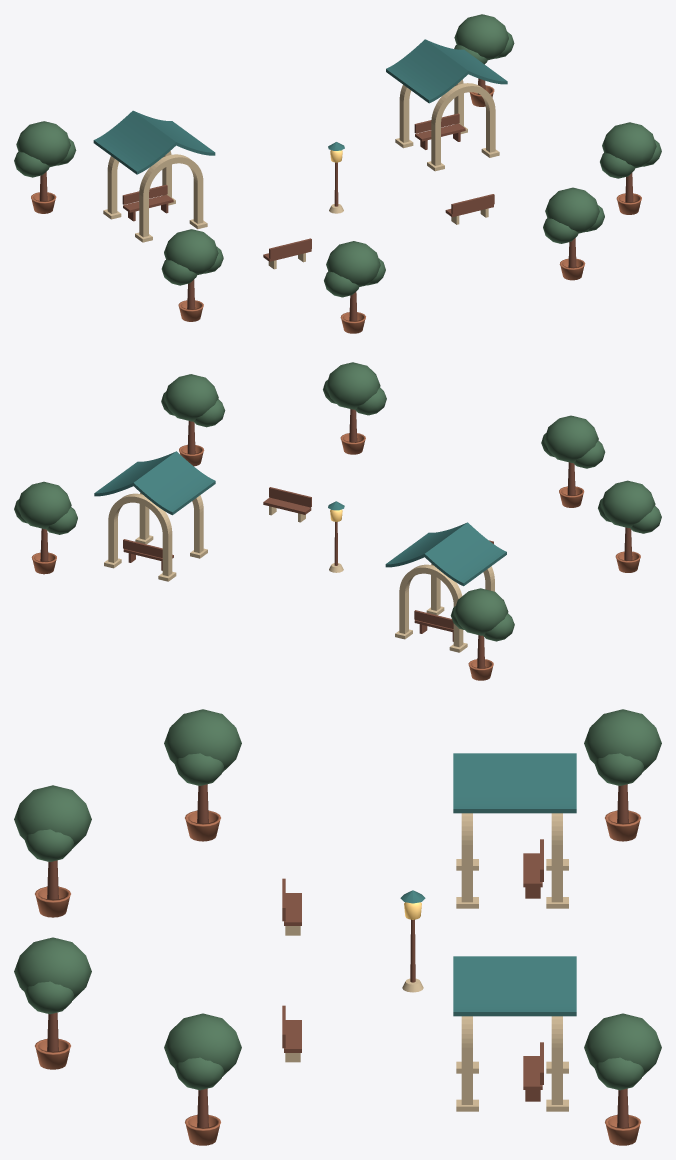
The model's file is court.glb.
3 renders of one model, top to bottom at view 1: azimuth 30°, elevation 25°; view 2: azimuth 150°, elevation 25°; view 3: azimuth 270°, elevation 25°, orthographic. The views are drawn at different scales.
Parts seen in each view (by area): view 1: Faceted canopy (×11), Sweeping pavilion roof (×2), Carved arcade (×4), LanternCourt; view 2: Faceted canopy (×12), Sweeping pavilion roof (×2), Carved arcade (×4), LanternCourt; view 3: Faceted canopy (×12), Sweeping pavilion roof (×2), LanternCourt, Ceramic garden planter (×6), Carved arcade (×4).
Boxes of the visible parts, box(x1,y1,x2,y2) form: Faceted canopy (×11): box(14, 14, 656, 297); Sweeping pavilion roof (×2): box(93, 39, 507, 174); Carved arcade (×4): box(107, 79, 495, 237); LanternCourt: box(103, 113, 499, 269); Faceted canopy (×12): box(17, 362, 661, 641); Sweeping pavilion roof (×2): box(94, 451, 506, 586); Carved arcade (×4): box(108, 492, 494, 647); LanternCourt: box(104, 487, 493, 652); Faceted canopy (×12): box(14, 709, 661, 1090); Sweeping pavilion roof (×2): box(453, 753, 576, 1016); LanternCourt: box(282, 839, 568, 1111); Ceramic garden planter (×6): box(35, 810, 640, 1145); Carved arcade (×4): box(461, 813, 562, 1104).
Bounding box in the file's own units: 27.2 × 4.9 × 21.6.
